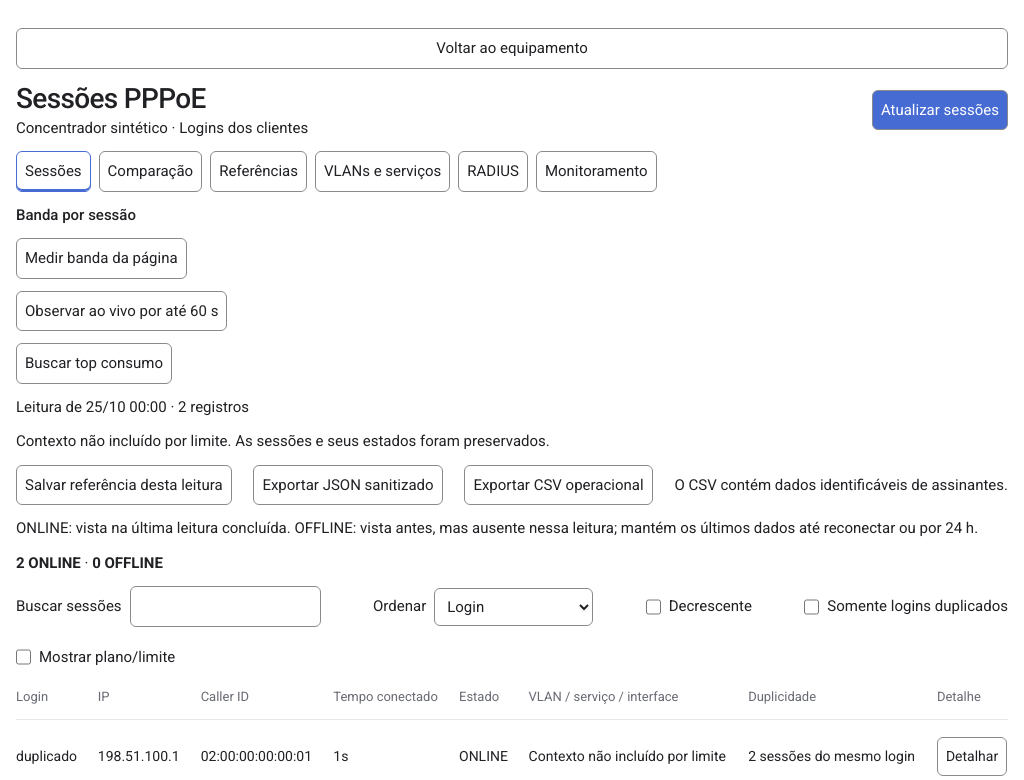
it: budget-omitted context preserves sessions, explains detail and avoids unknown groups
The width and height of the screenshot is (1024, 780).
expect the text "Contexto não incluído por limite. As sessões e seus estados foram preservados." is shown: met, box x1=16 y1=432 x2=550 y2=450
Click the button with aria-label "Detalhar duplicado row-1". click: (972, 757)
box: x1=937 y1=737 x2=1007 y2=776
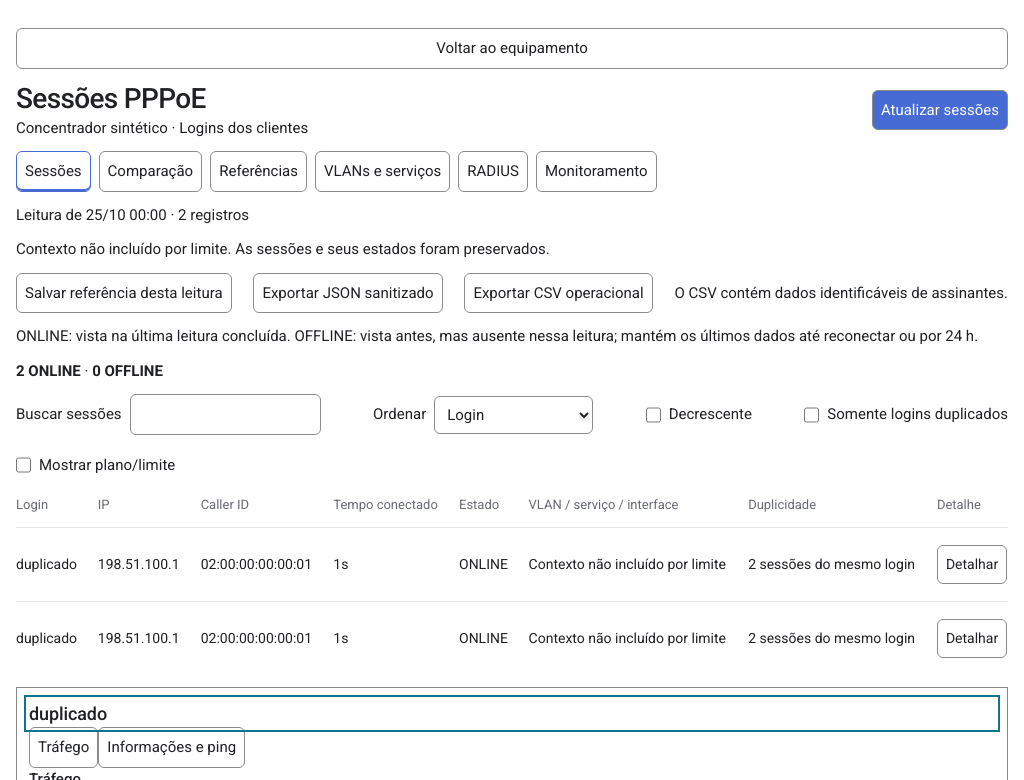
Click the button "Informações e ping". click: (172, 748)
box: x1=98 y1=727 x2=245 y2=768
(page scrolled)
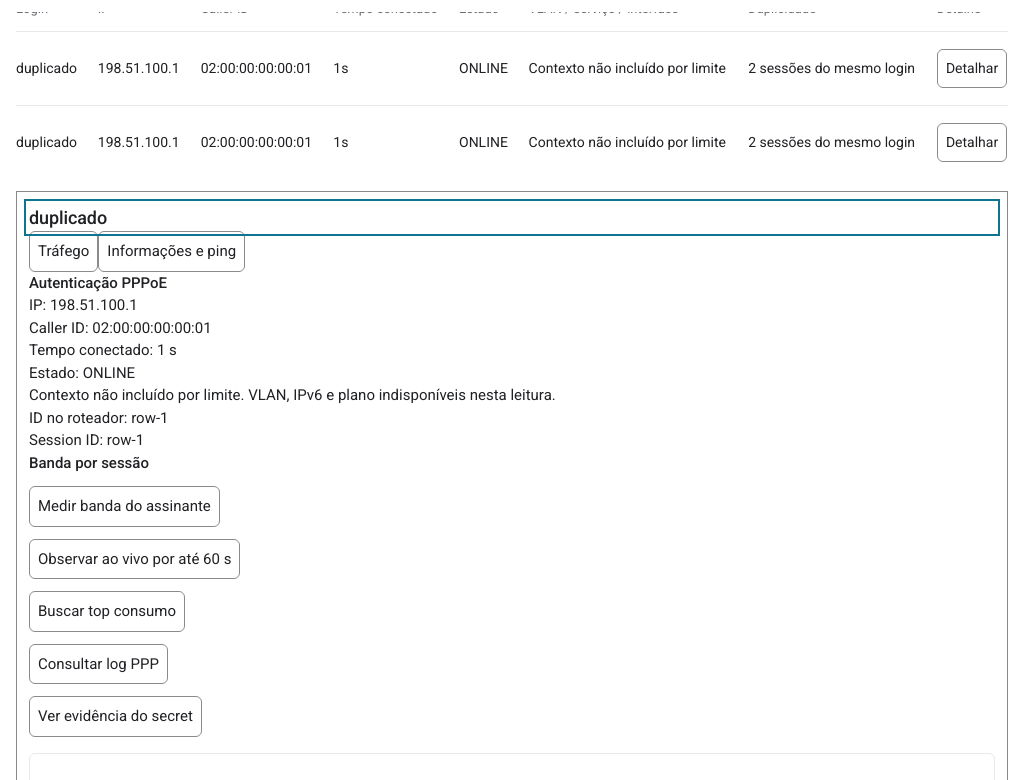
expect the text "Contexto não incluído por limite. VLAN, IPv6 e plano indisponíveis nesta leitura." is shown: met, box x1=29 y1=386 x2=556 y2=404
